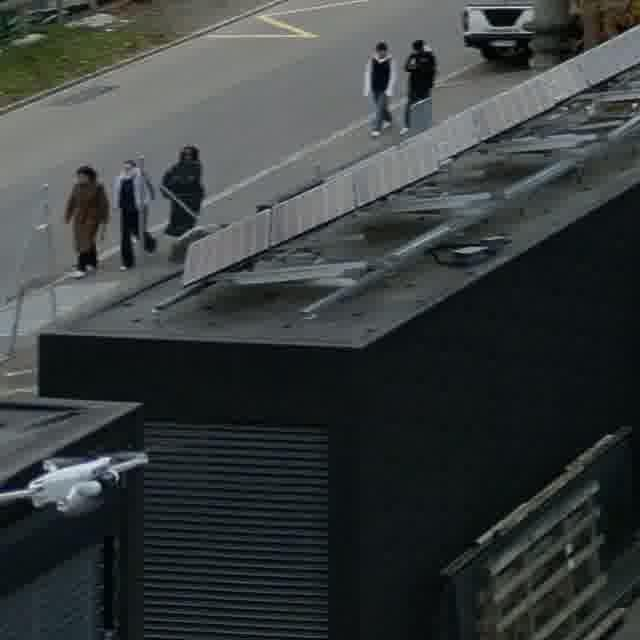Drohne: (0, 451, 148, 515)
